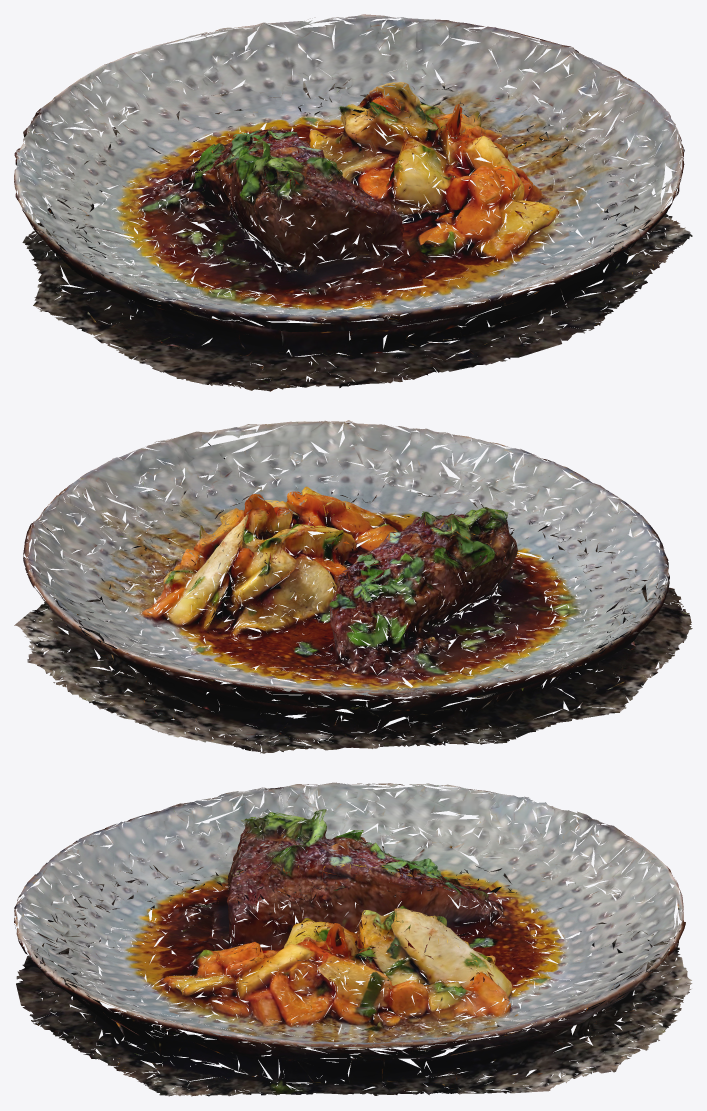
File: Tajin Zitoun Fixed.glb
3 views of the same model, one above another, from view 1: azimuth 30°, elevation 25°; view 2: azimuth 150°, elevation 25°; view 3: azimuth 270°, elevation 25° (orthographic). The views are drawn at different scales.
Parts seen in each view (by area): view 1: Object_5; view 2: Object_5; view 3: Object_5.
Part boxes in pixels (x1=…): Object_5: x1=14, y1=14, x2=692, y2=391; Object_5: x1=14, y1=420, x2=692, y2=753; Object_5: x1=14, y1=782, x2=692, y2=1096.
Size of the model in its own units: 1.59 by 0.349 by 1.58.
1 material, 1 textured.
